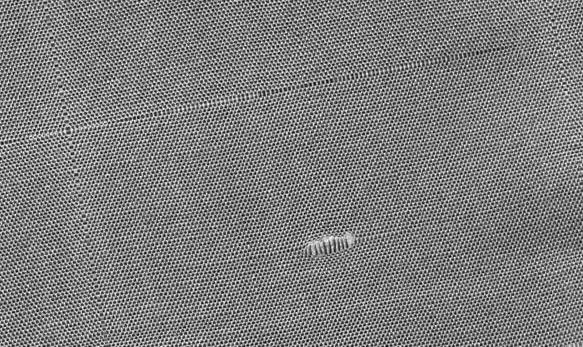slub: (289, 226, 368, 265)
